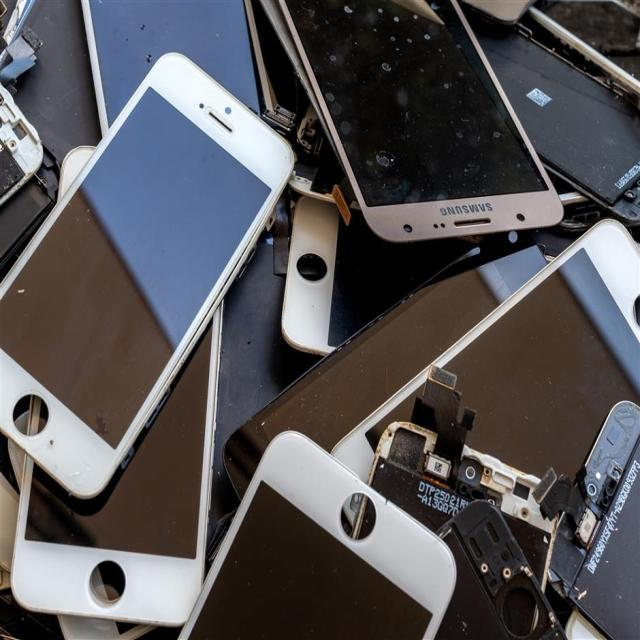hazard: (167, 221, 640, 640), (0, 49, 293, 495), (13, 147, 236, 617), (284, 3, 561, 234)
